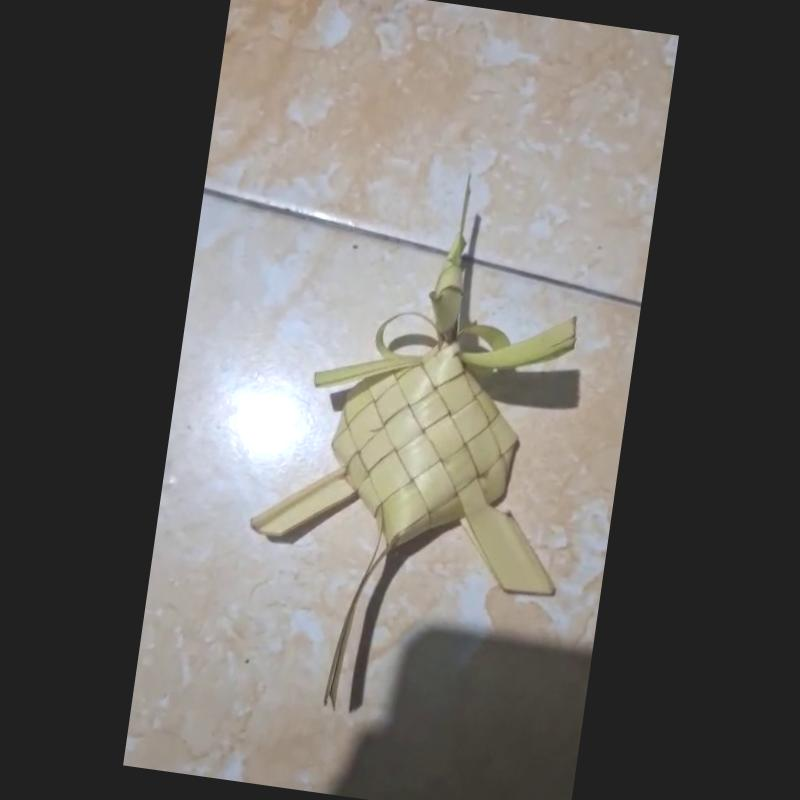Tipat Dampulan: (253, 167, 584, 708)
